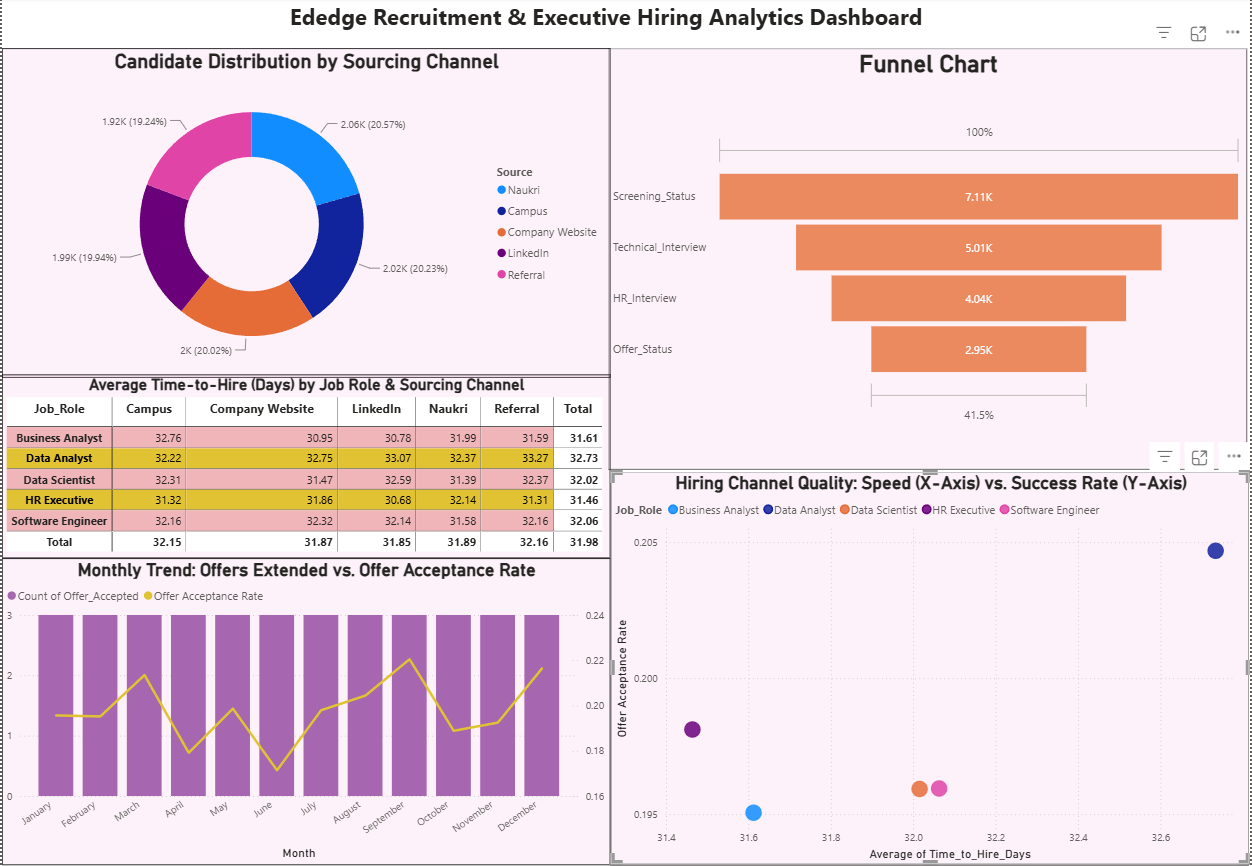

Layout of this report page (visuals, bound fields, positions):
{"tool":"powerbi","page":{"name":"Dashboard","canvas":[1500,1200],"ordinal":0},"visuals":[{"type":"funnel","title":"Funnel Chart","fields":{"Y":["CountNonNull(Hiring_Funnel_Recruitment_Analytics_10000.Hiring Stage)"],"Category":["Hiring_Funnel_Recruitment_Analytics_10000.Hiring Stage"]},"box":[729.3,61.7,768.3,506.8],"z":0},{"type":"donutChart","title":"Candidate Distribution by Sourcing Channel","fields":{"Y":["Count(Hiring_Funnel_Recruitment_Analytics_10000.Candidate_ID)"],"Category":["Hiring_Funnel_Recruitment_Analytics_10000.Source"]},"box":[0,61.7,730.9,396.3],"z":1000},{"type":"pivotTable","title":"Average Time-to-Hire (Days) by Job Role & Sourcing Channel","fields":{"Rows":["Hiring_Funnel_Recruitment_Analytics_10000.Job_Role"],"Columns":["Hiring_Funnel_Recruitment_Analytics_10000.Source"],"Values":["Avg(Hiring_Funnel_Recruitment_Analytics_10000.Time_to_Hire_Days)"]},"box":[0,453.2,730.9,220.9],"z":2000},{"type":"lineStackedColumnComboChart","title":"Monthly Trend: Offers Extended vs. Offer Acceptance Rate","fields":{"Category":["Hiring_Funnel_Recruitment_Analytics_10000.Application_Date.Variation.Date Hierarchy.Month"],"Y":["Count(Hiring_Funnel_Recruitment_Analytics_10000.Offer_Accepted)"],"Y2":["Hiring_Funnel_Recruitment_Analytics_10000.Offer Acceptance Rate"]},"box":[0,674.1,730.9,368.7],"z":3000},{"type":"scatterChart","title":"Hiring Channel Quality: Speed (X-Axis) vs. Success Rate (Y-Axis)","fields":{"X":["Avg(Hiring_Funnel_Recruitment_Analytics_10000.Time_to_Hire_Days)"],"Y":["Hiring_Funnel_Recruitment_Analytics_10000.Offer Acceptance Rate"],"Category":["Hiring_Funnel_Recruitment_Analytics_10000.Job_Role"],"Series":["Hiring_Funnel_Recruitment_Analytics_10000.Job_Role"]},"box":[730.9,570.1,768.3,472.7],"z":4000},{"type":"textbox","box":[341.1,0,774.8,47.1],"z":5000}]}

Visuals, with their boxes on the page's 1500x1200 design canvas (x1, y1, x2, y2). These are canvas units, not pixel positions in the 1252x866 screenshot, which may show the page scaled, cropped or inside an application window:
"Funnel Chart" funnel: detection(729, 62, 1498, 568)
"Candidate Distribution by Sourcing Channel" donutChart: detection(0, 62, 731, 458)
"Average Time-to-Hire (Days) by Job Role & Sourcing Channel" pivotTable: detection(0, 453, 731, 674)
"Monthly Trend: Offers Extended vs. Offer Acceptance Rate" lineStackedColumnComboChart: detection(0, 674, 731, 1043)
"Hiring Channel Quality: Speed (X-Axis) vs. Success Rate (Y-Axis)" scatterChart: detection(731, 570, 1499, 1043)
textbox: detection(341, 0, 1116, 47)
